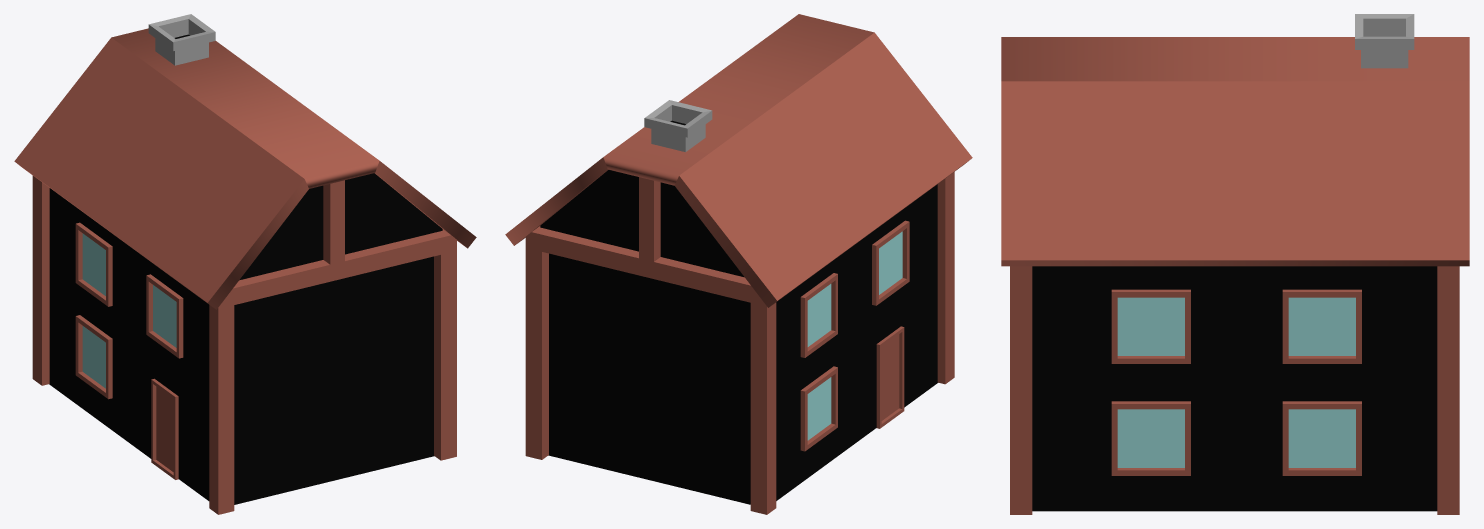
Rendered from oldHouse4.fbx.
The picture shows the model from 3 angles, left to right: view 1: azimuth 30°, elevation 25°; view 2: azimuth 150°, elevation 25°; view 3: azimuth 270°, elevation 25°; orthographic projection. The views are drawn at different scales.
Visible parts, largest first — view 1: Wohnhaus4.002, Wohnhaus5.013, Cube.021, Plane.040, Cube.025, Plane.041; view 2: Wohnhaus4.002, Wohnhaus5.013, Cube.021, Plane.040, Plane.041, Cube.025; view 3: Wohnhaus5.013, Wohnhaus4.002, Plane.040, Cube.021, Cube.025.
Boxes of the visible parts, x1,y1,x2,y2 form: Wohnhaus4.002: (49,173,442,504); Wohnhaus5.013: (14,28,476,309); Cube.021: (32,175,456,514); Plane.040: (75,222,183,399); Cube.025: (148,14,215,65); Plane.041: (151,378,178,479); Wohnhaus4.002: (540,170,937,504); Wohnhaus5.013: (505,14,972,307); Cube.021: (525,172,954,514); Plane.040: (800,220,909,451); Plane.041: (876,326,904,428); Cube.025: (644,100,712,152); Wohnhaus5.013: (1001,37,1469,266); Wohnhaus4.002: (1032,266,1437,511); Plane.040: (1111,289,1361,475); Cube.021: (1010,266,1459,514); Cube.025: (1355,14,1414,68).
Bounding box in the file's own units: 7.23 × 8.86 × 8.99.
